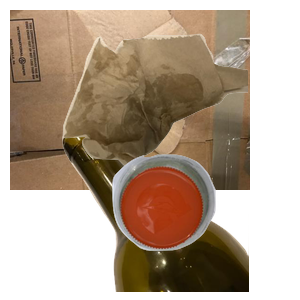cardboard: (10, 10, 250, 190)
glass: (60, 120, 300, 300)
plastic: (110, 152, 300, 300)
trash: (60, 31, 300, 189)
